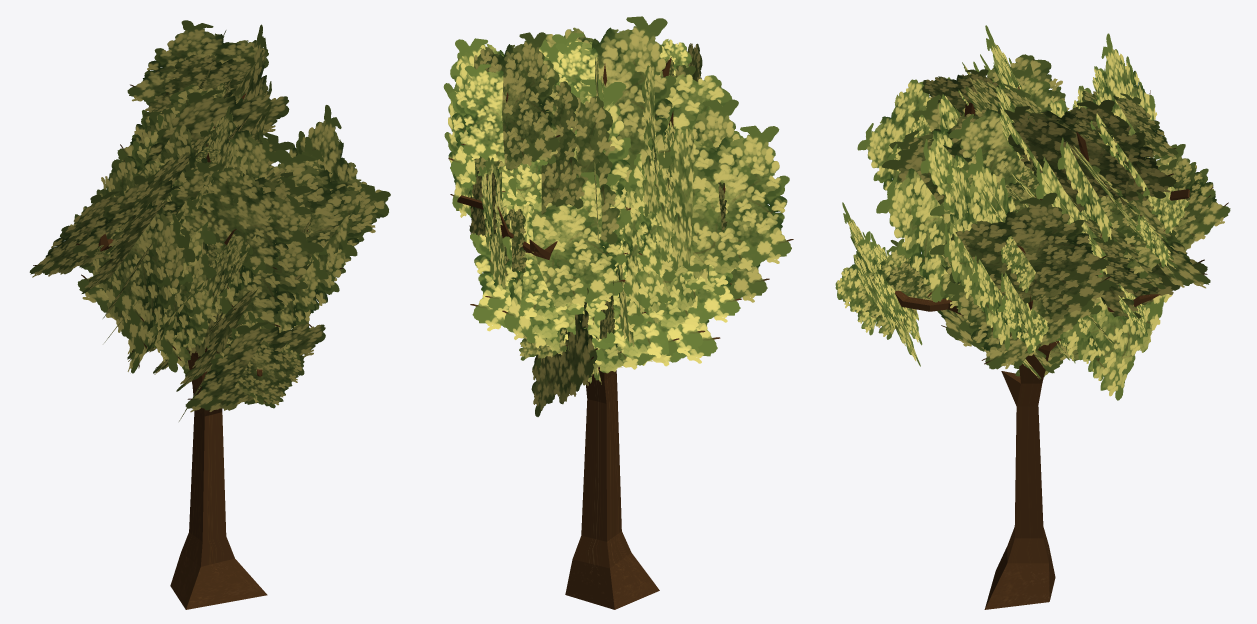
File: ipe-amarelo.fbx
The picture shows the model from 3 angles, left to right: view 1: azimuth 30°, elevation 25°; view 2: azimuth 150°, elevation 25°; view 3: azimuth 270°, elevation 25°; orthographic projection. The views are drawn at different scales.
Parts seen in each view (by area): view 1: tronco, tronco|Plane|Dupli|35, tronco|Plane|Dupli|123, tronco|Plane|Dupli|105, tronco|Plane|Dupli|193, tronco|Plane|Dupli|176, tronco|Plane|Dupli|31, tronco|Plane|Dupli|97, tronco|Plane|Dupli|95, tronco|Plane|Dupli|104, tronco|Plane|Dupli|130, tronco|Plane|Dupli|125 (+26 smaller); view 2: tronco|Plane|Dupli|130, tronco, tronco|Plane|Dupli|56, tronco|Plane|Dupli|176, tronco|Plane|Dupli|97, tronco|Plane|Dupli|96, tronco|Plane|Dupli|92, tronco|Plane|Dupli|85, tronco|Plane|Dupli|44, tronco|Plane|Dupli|57, tronco|Plane|Dupli|58, tronco|Plane|Dupli|123 (+31 smaller); view 3: tronco, tronco|Plane|Dupli|160, tronco|Plane|Dupli|167, tronco|Plane|Dupli|44, tronco|Plane|Dupli|31, tronco|Plane|Dupli|188, tronco|Plane|Dupli|180, tronco|Plane|Dupli|184, tronco|Plane|Dupli|35, tronco|Plane|Dupli|97, tronco|Plane|Dupli|171, tronco|Plane|Dupli|149 (+34 smaller).
Part boxes in pixels (x1=…): tronco: x1=98, y1=93, x2=307, y2=609; tronco|Plane|Dupli|35: x1=180, y1=167, x2=310, y2=273; tronco|Plane|Dupli|123: x1=70, y1=157, x2=188, y2=325; tronco|Plane|Dupli|105: x1=185, y1=322, x2=325, y2=412; tronco|Plane|Dupli|193: x1=278, y1=175, x2=390, y2=268; tronco|Plane|Dupli|176: x1=138, y1=90, x2=289, y2=174; tronco|Plane|Dupli|31: x1=189, y1=199, x2=323, y2=329; tronco|Plane|Dupli|97: x1=127, y1=20, x2=268, y2=104; tronco|Plane|Dupli|95: x1=143, y1=54, x2=265, y2=116; tronco|Plane|Dupli|104: x1=218, y1=336, x2=304, y2=408; tronco|Plane|Dupli|130: x1=29, y1=191, x2=123, y2=277; tronco|Plane|Dupli|125: x1=87, y1=227, x2=195, y2=354; tronco|Plane|Dupli|130: x1=661, y1=125, x2=793, y2=281; tronco: x1=457, y1=57, x2=725, y2=609; tronco|Plane|Dupli|56: x1=531, y1=172, x2=625, y2=307; tronco|Plane|Dupli|176: x1=539, y1=16, x2=676, y2=182; tronco|Plane|Dupli|97: x1=474, y1=32, x2=560, y2=176; tronco|Plane|Dupli|96: x1=460, y1=64, x2=547, y2=165; tronco|Plane|Dupli|92: x1=541, y1=81, x2=584, y2=214; tronco|Plane|Dupli|85: x1=575, y1=96, x2=620, y2=244; tronco|Plane|Dupli|44: x1=531, y1=288, x2=593, y2=416; tronco|Plane|Dupli|57: x1=485, y1=209, x2=607, y2=320; tronco|Plane|Dupli|58: x1=470, y1=205, x2=623, y2=343; tronco|Plane|Dupli|123: x1=670, y1=128, x2=709, y2=282; tronco: x1=895, y1=74, x2=1189, y2=609; tronco|Plane|Dupli|160: x1=950, y1=192, x2=1108, y2=303; tronco|Plane|Dupli|167: x1=1008, y1=99, x2=1176, y2=211; tronco|Plane|Dupli|44: x1=1056, y1=294, x2=1172, y2=400; tronco|Plane|Dupli|31: x1=876, y1=168, x2=948, y2=302; tronco|Plane|Dupli|188: x1=947, y1=147, x2=1017, y2=350; tronco|Plane|Dupli|180: x1=948, y1=78, x2=1059, y2=196; tronco|Plane|Dupli|184: x1=1097, y1=144, x2=1230, y2=278; tronco|Plane|Dupli|35: x1=857, y1=79, x2=931, y2=190; tronco|Plane|Dupli|97: x1=1096, y1=33, x2=1157, y2=194; tronco|Plane|Dupli|171: x1=997, y1=106, x2=1165, y2=198; tronco|Plane|Dupli|149: x1=968, y1=300, x2=1094, y2=367.
Size of the model in its own units: 784 by 1182 by 781.
